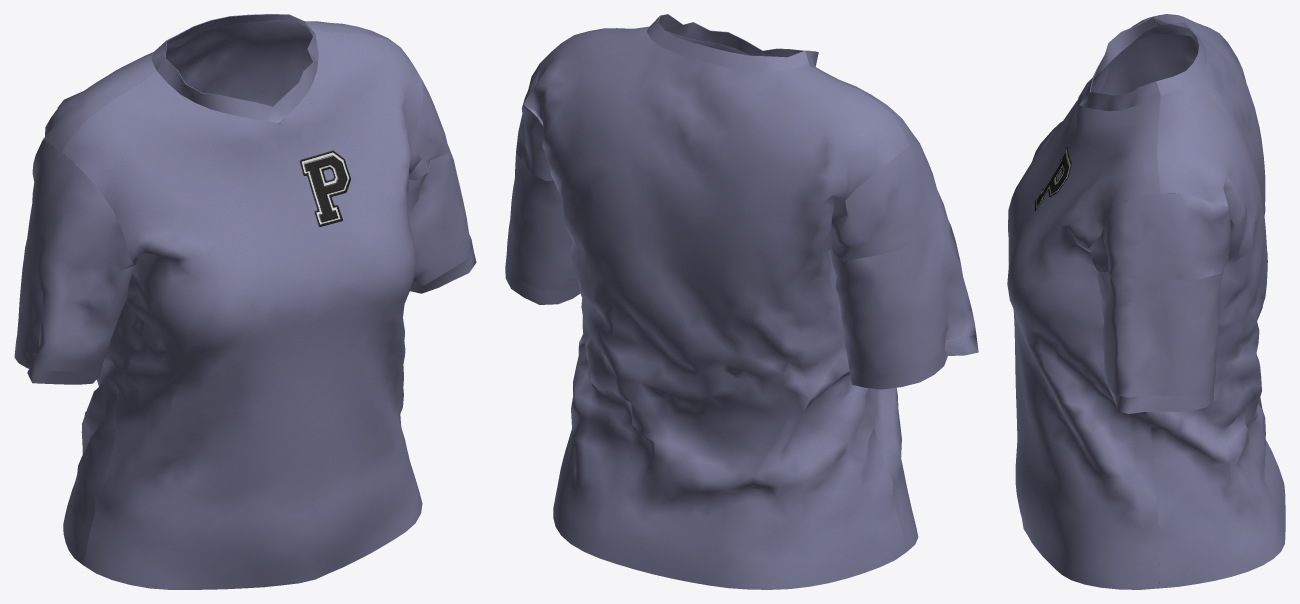
The picture shows the model from 3 angles, left to right: view 1: azimuth 30°, elevation 25°; view 2: azimuth 150°, elevation 25°; view 3: azimuth 270°, elevation 25°; orthographic projection. The views are drawn at different scales.
Visible parts, largest first — view 1: Pattern2D_482616, Pattern2D_487092, Pattern2D_200717, Pattern2D_200916, Pattern2D_203654, MatShape_14349, Pattern2D_3805017, Pattern2D_203397, Pattern2D_190946, Pattern2D_3805002, Pattern2D_3805018, Pattern2D_193312; view 2: Pattern2D_487092, Pattern2D_200717, Pattern2D_200916, Pattern2D_203654, Pattern2D_482616, Pattern2D_3805002, Pattern2D_190946, Pattern2D_203397, Pattern2D_3805018, Pattern2D_193312; view 3: Pattern2D_482616, Pattern2D_487092, Pattern2D_203654, Pattern2D_203397, Pattern2D_200916, Pattern2D_193312, Pattern2D_3805018, Pattern2D_3805002, Pattern2D_3805017, MatShape_14349.
Boxes of the visible parts, x1,y1,x2,y2 form: Pattern2D_482616: (62,29,423,589); Pattern2D_487092: (43,19,398,565); Pattern2D_200717: (16,223,134,372); Pattern2D_200916: (29,140,134,270); Pattern2D_203654: (407,144,472,285); MatShape_14349: (299,150,350,226); Pattern2D_3805017: (156,58,278,123); Pattern2D_203397: (408,80,448,180); Pattern2D_190946: (14,341,102,384); Pattern2D_3805002: (151,14,307,70); Pattern2D_3805018: (273,22,318,123); Pattern2D_193312: (410,248,476,293); Pattern2D_487092: (524,26,909,589); Pattern2D_200717: (830,219,976,374); Pattern2D_200916: (831,143,947,260); Pattern2D_203654: (506,152,578,290); Pattern2D_482616: (592,28,919,551); Pattern2D_3805002: (646,15,809,71); Pattern2D_190946: (849,335,978,389); Pattern2D_203397: (516,63,553,180); Pattern2D_3805018: (658,14,763,55); Pattern2D_193312: (505,256,580,304); Pattern2D_482616: (1007,17,1160,589); Pattern2D_487092: (1146,14,1285,588); Pattern2D_203654: (1094,267,1223,397); Pattern2D_203397: (1089,193,1230,279); Pattern2D_200916: (1100,34,1198,95); Pattern2D_193312: (1108,387,1213,413); Pattern2D_3805018: (1079,81,1160,111); Pattern2D_3805002: (1153,16,1206,95); Pattern2D_3805017: (1079,16,1157,104); MatShape_14349: (1035,147,1071,210).
Size of the model in its own units: 51.94 by 54.66 by 28.89.
